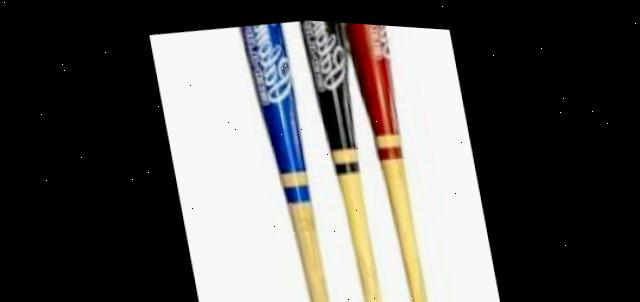baseball bat: (234, 15, 344, 302), (298, 16, 397, 302), (342, 18, 441, 302)
